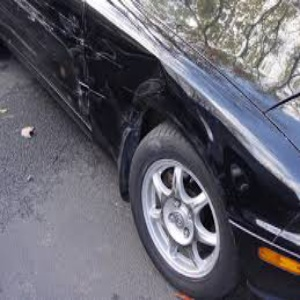door_scratch: (26, 9, 121, 107)
